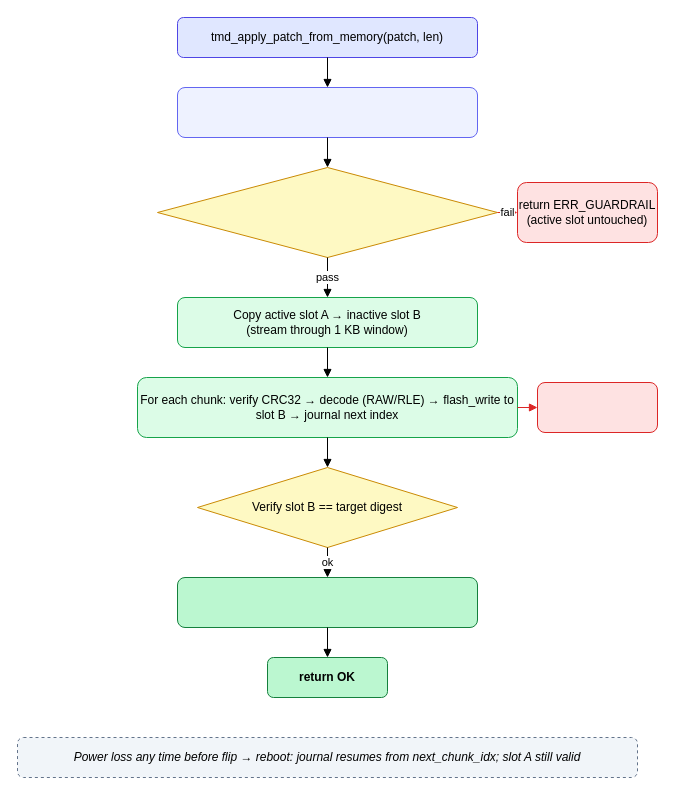
The diagram is 675 pixels wide and 795 high, and some of its shapes have lost their labels. The shapes that lost their labels are listed below. From the top down, each one's centre as x and y in pixels, then its label:
At (x=327, y=112): "Parse header + TLVs (version, algo, lengths, guardrail metadata)".
At (x=327, y=212): "Guardrails / envelope check arena ≤ firmware · opset ⊆ linked · I/O compatible".
At (x=597, y=407): "CRC mismatch? → return ERR_INTEGRITY".
At (x=327, y=602): "Clear journal · atomic flip: B becomes active".
